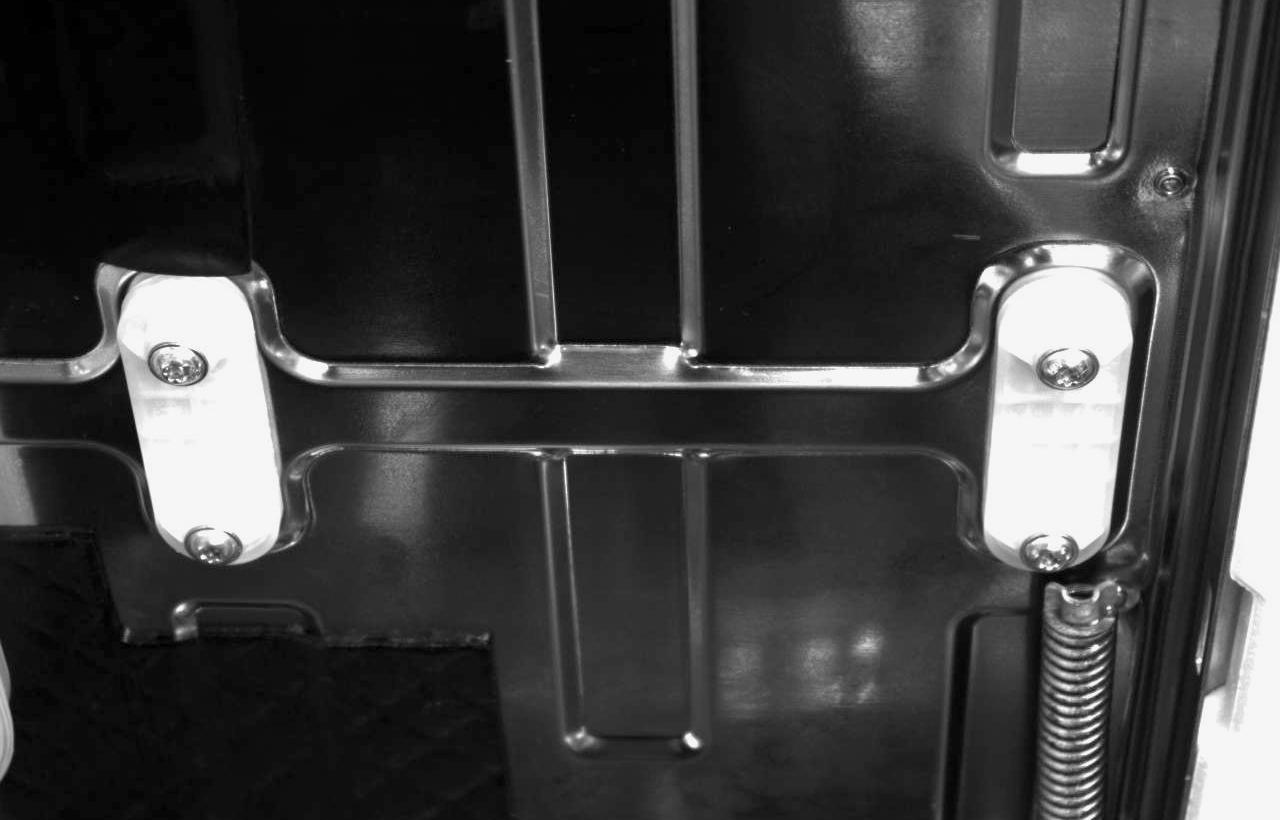vida-ok: (139, 329, 226, 407), (1018, 339, 1105, 412), (170, 511, 247, 575), (1010, 520, 1085, 578)
